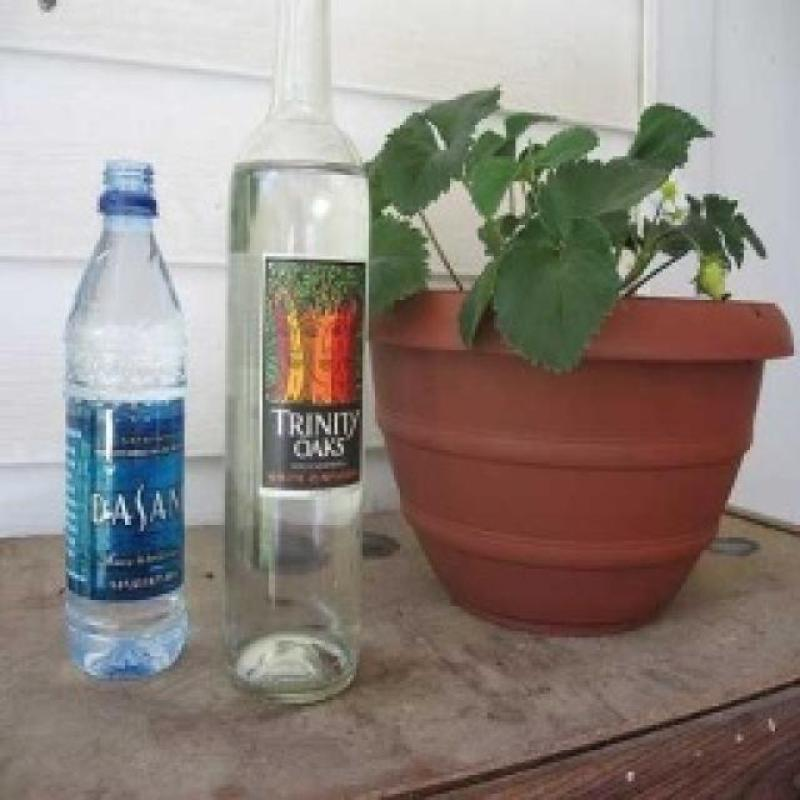botella: (56, 161, 188, 677)
